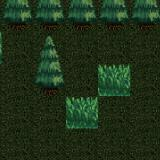Obstacle: (0, 0, 34, 32), (34, 0, 67, 32), (98, 0, 130, 32), (33, 66, 66, 97), (67, 0, 98, 32), (130, 0, 160, 32)
Slow: (98, 65, 131, 97), (66, 97, 98, 129)
